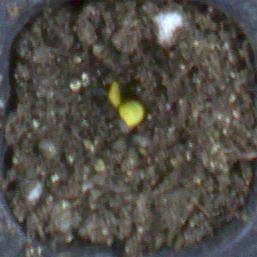pepper seed: (45, 35, 191, 164), (46, 25, 169, 137)
